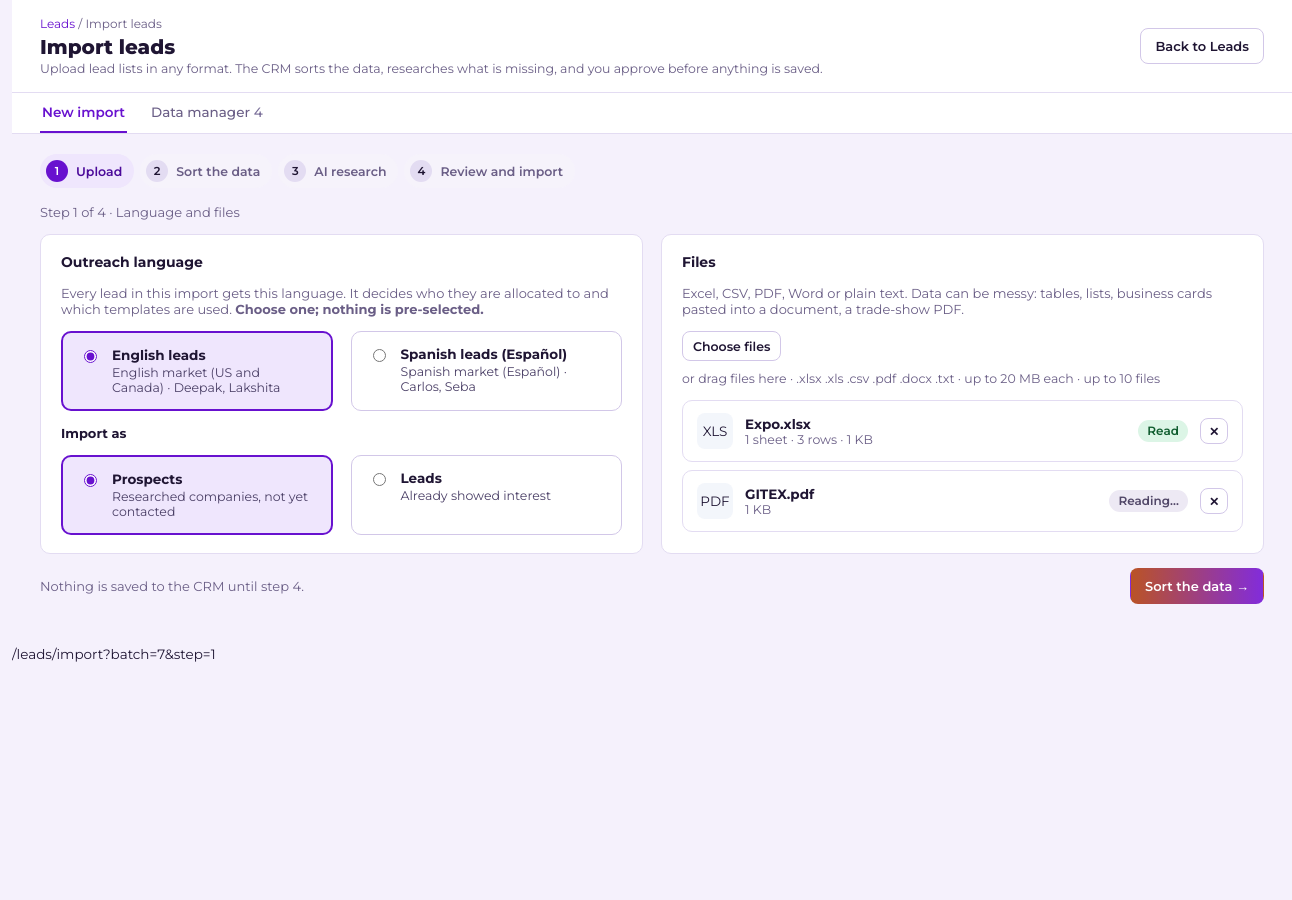
Test: step 1: Sort while a file is still being read › says the files are still being read (not "add a file") and does not sort
Check: the text "GITEX.pdf" is shown, box [745,486,814,502]
Click the button "Sort the data →" at (1197, 586), box [1130,568,1264,604]
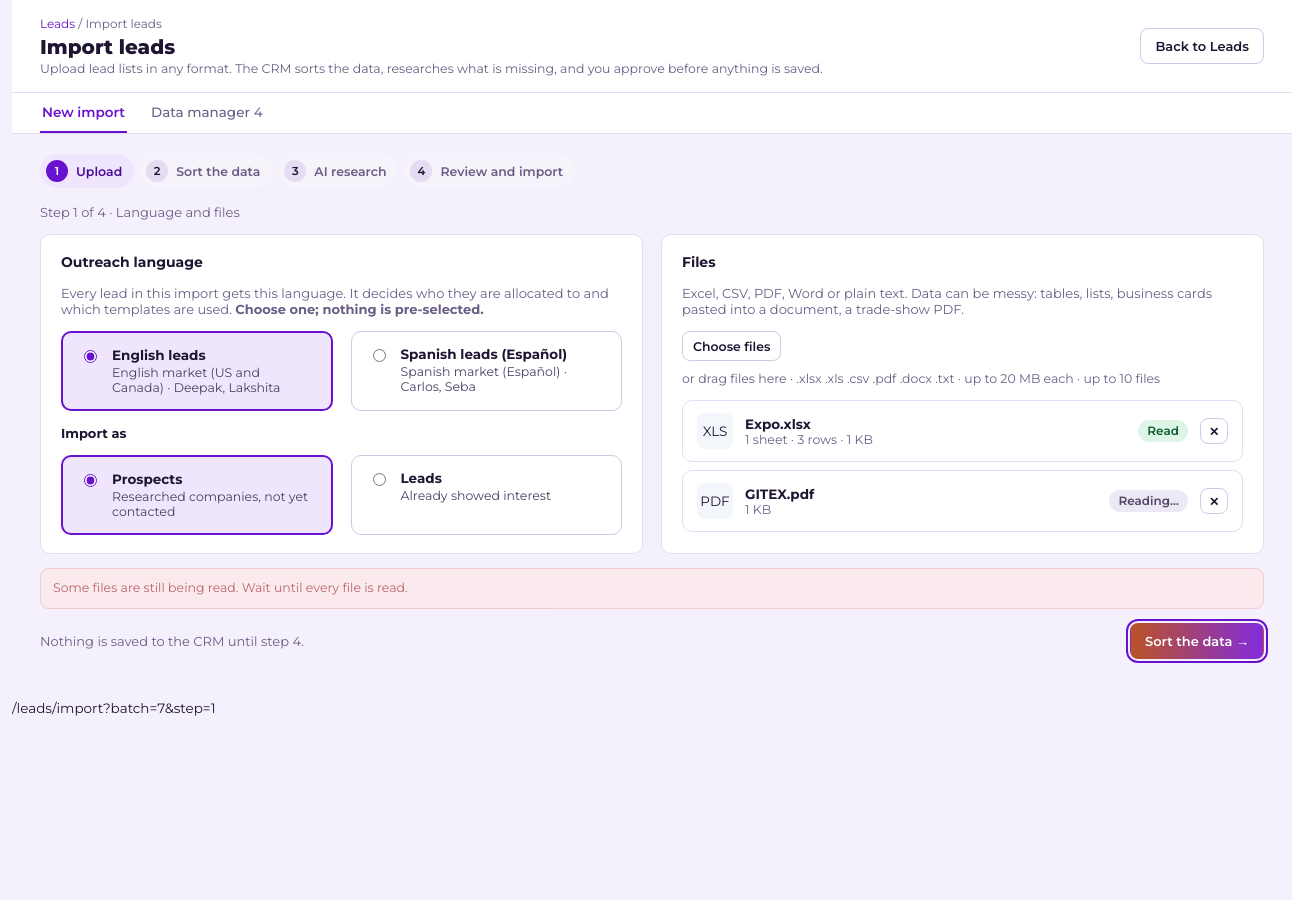
Check: the text with test id "where" shows "step=1", box [12,700,216,716]
Check: the message reads "Some files are still being read. Wait until every file is read.", box [53,580,408,595]
